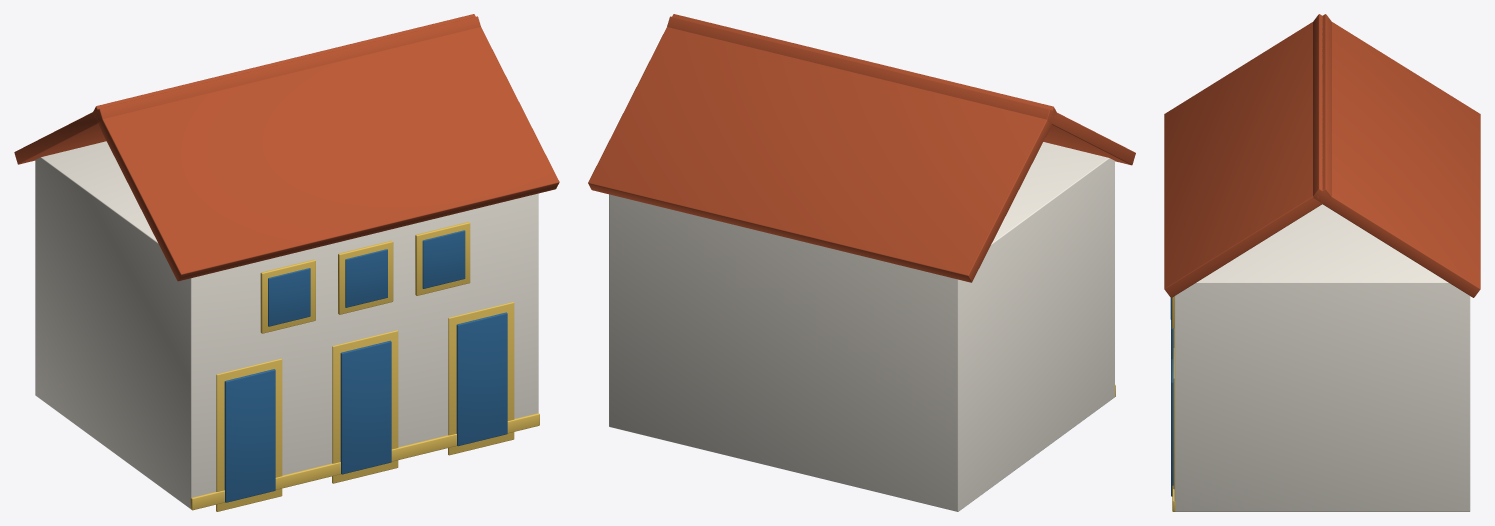
The model's file is rg_colonial_1.glb.
3 views of the same model, side by side, from view 1: azimuth 30°, elevation 25°; view 2: azimuth 150°, elevation 25°; view 3: azimuth 270°, elevation 25° (orthographic). The views are drawn at different scales.
Visible parts, largest first — view 1: rg_colonial_1; view 2: rg_colonial_1; view 3: rg_colonial_1.
Boxes of the visible parts, left/top/right/bottom form: rg_colonial_1: left=14, top=14, right=559, bottom=511; rg_colonial_1: left=588, top=14, right=1135, bottom=511; rg_colonial_1: left=1164, top=14, right=1480, bottom=511.
Size of the model in its own units: 9.8 by 8.83 by 7.48.
